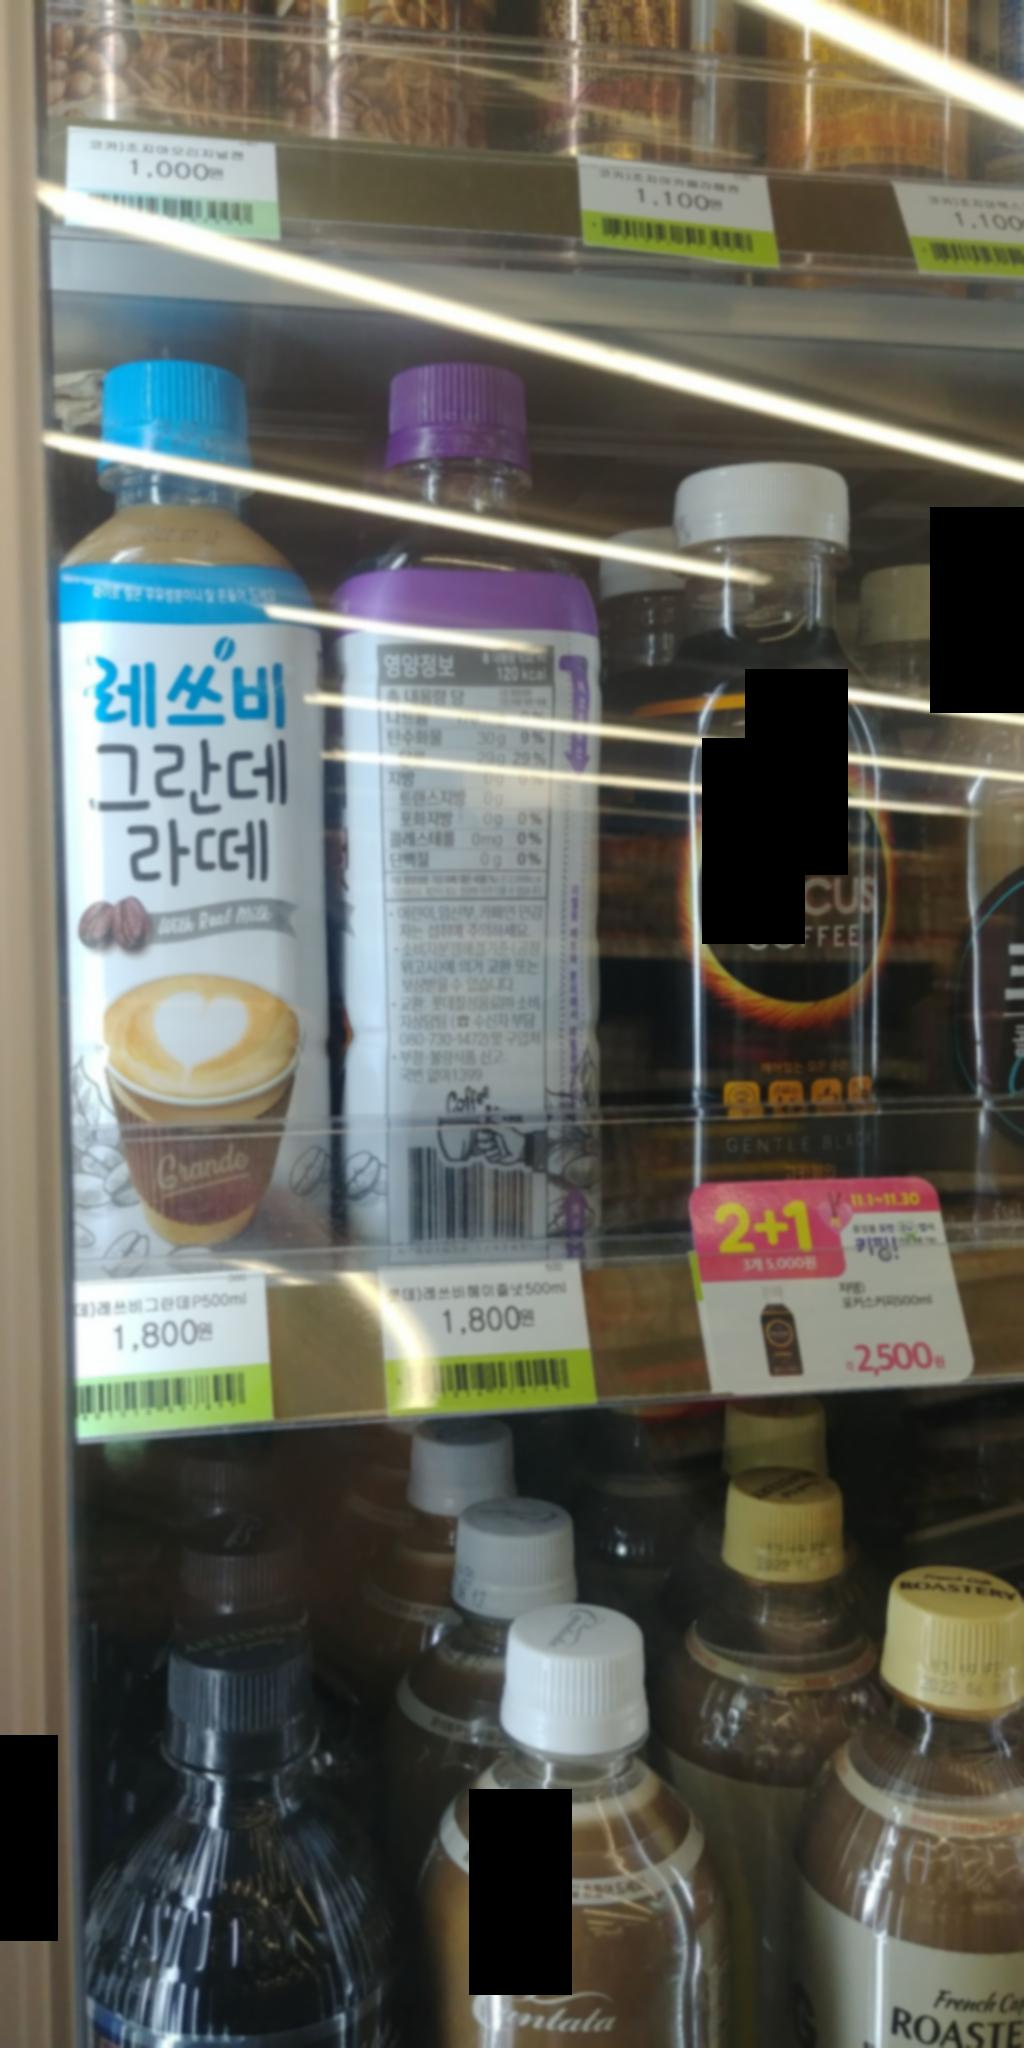letsbe_grande_hazelnut: (337, 370, 601, 1246)
